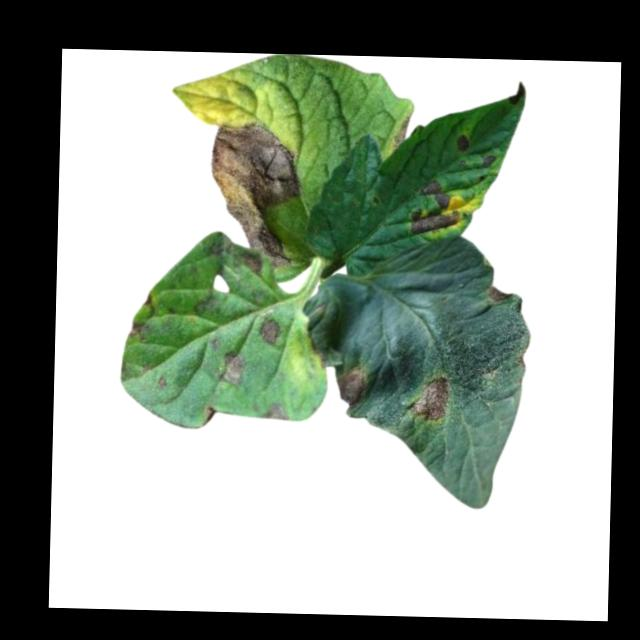Early_blight: (208, 124, 303, 265), (410, 178, 457, 236), (410, 373, 452, 424), (336, 364, 370, 407), (217, 352, 248, 387), (392, 113, 410, 153), (482, 286, 513, 307), (260, 319, 280, 345), (263, 404, 289, 423), (508, 80, 526, 107), (238, 254, 261, 275), (127, 321, 147, 340), (456, 135, 471, 154), (204, 406, 218, 424), (481, 156, 496, 169)
